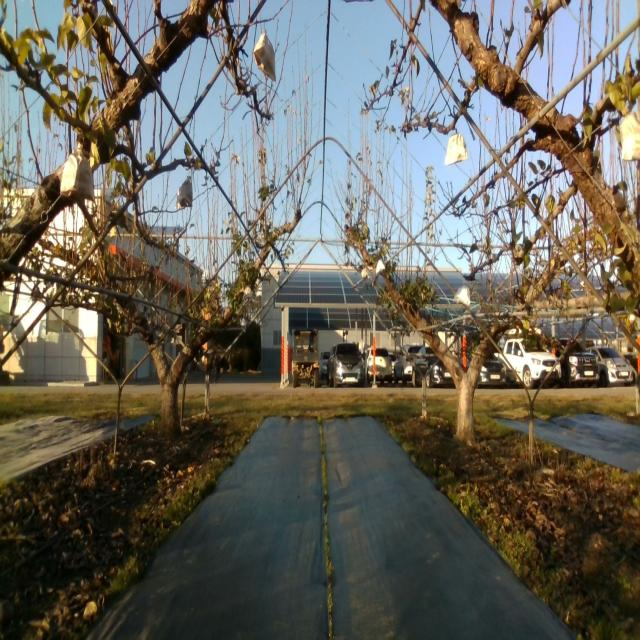pearbags: (60, 150, 93, 203), (253, 28, 277, 80), (619, 112, 640, 159), (444, 128, 468, 166), (175, 176, 192, 207), (453, 282, 470, 308)
